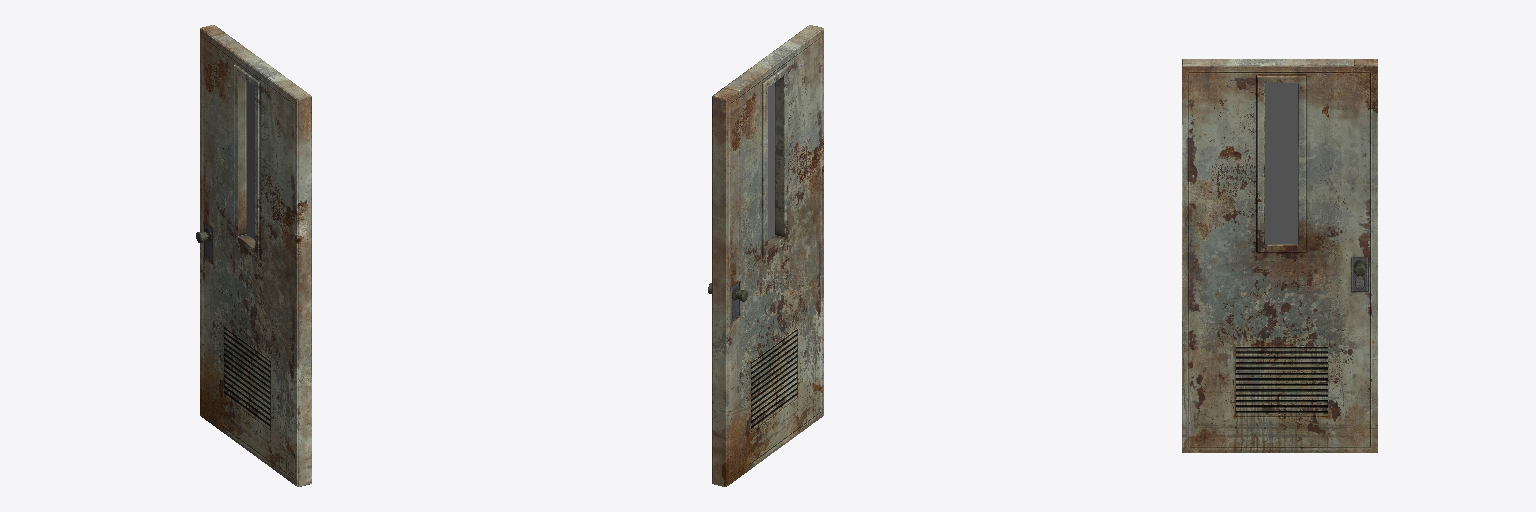
3 views of the same model, side by side, from view 1: azimuth 30°, elevation 25°; view 2: azimuth 150°, elevation 25°; view 3: azimuth 270°, elevation 25° (orthographic).
Visible parts, largest first — view 1: usa5; view 2: usa5; view 3: usa5.
Boxes of the visible parts, <box> form: usa5: <box>196,25,311,486</box>; usa5: <box>708,25,823,486</box>; usa5: <box>1182,59,1377,452</box>.
Bounding box in the file's own units: 0.233 × 2.44 × 1.12.
Materials: 3 (1 with a texture image).